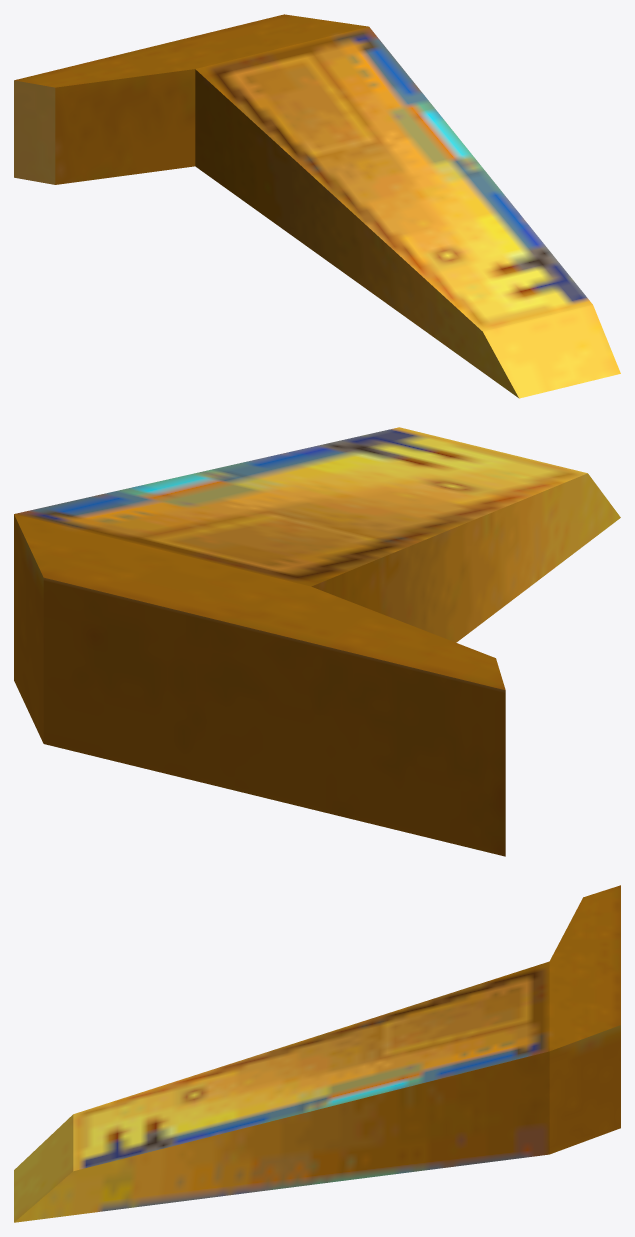
The picture shows the model from 3 angles, top to bottom: view 1: azimuth 30°, elevation 25°; view 2: azimuth 150°, elevation 25°; view 3: azimuth 270°, elevation 25°; orthographic projection. The views are drawn at different scales.
Parts seen in each view (by area): view 1: aw204; view 2: aw204; view 3: aw204.
Part boxes in pixels (x1,y1,x2,y2): aw204: [14, 14, 620, 398]; aw204: [14, 427, 620, 856]; aw204: [14, 885, 620, 1222].
Bounding box in the file's own units: 7.7 × 3.71 × 11.89.
1 material, 1 textured.
